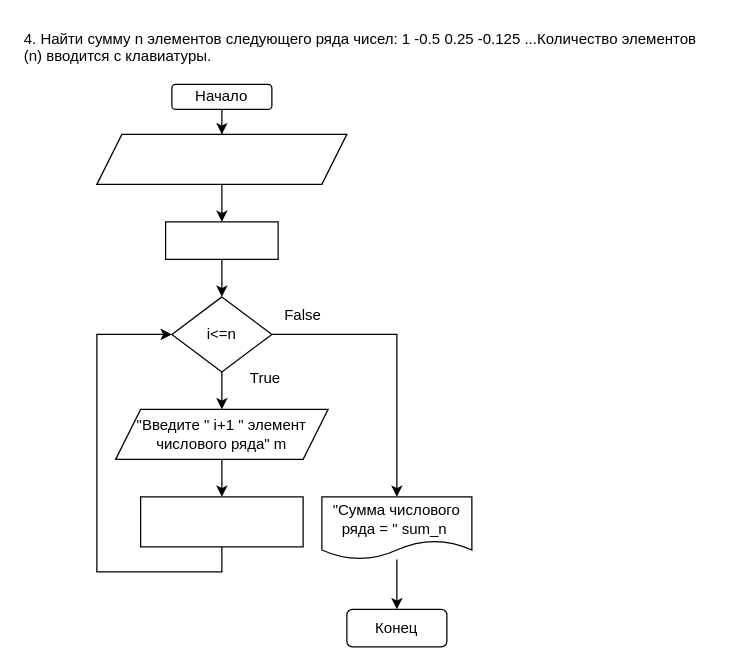
Image size: 730x669. Some labels were removed from this diagram. Here are the shapes that lost their labels. From the top down, the centre of each, then its label:
point 221,158: "Сколько элементов будет в числовом ряду?" n
point 221,240: sum_n=0'
point 221,521: sum_n+=m i+=1
